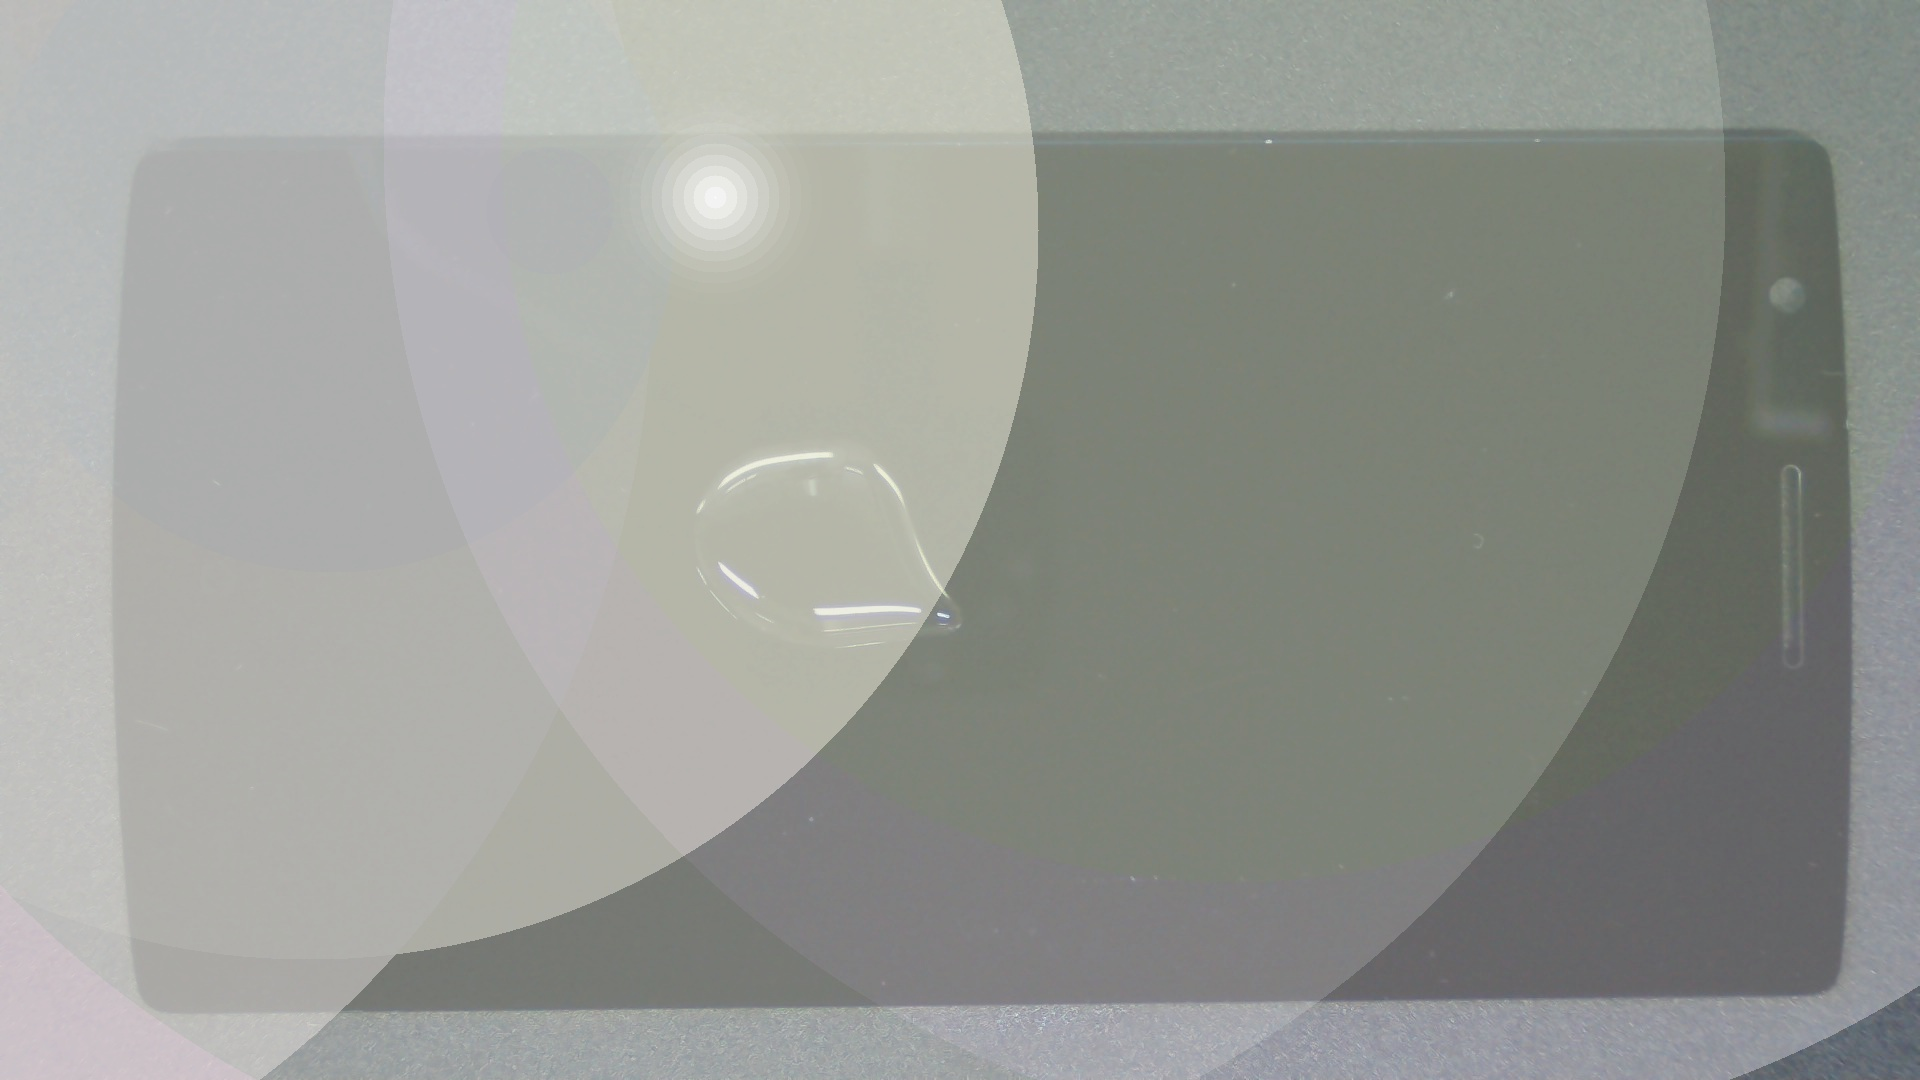oil: (413, 218, 1236, 654)
